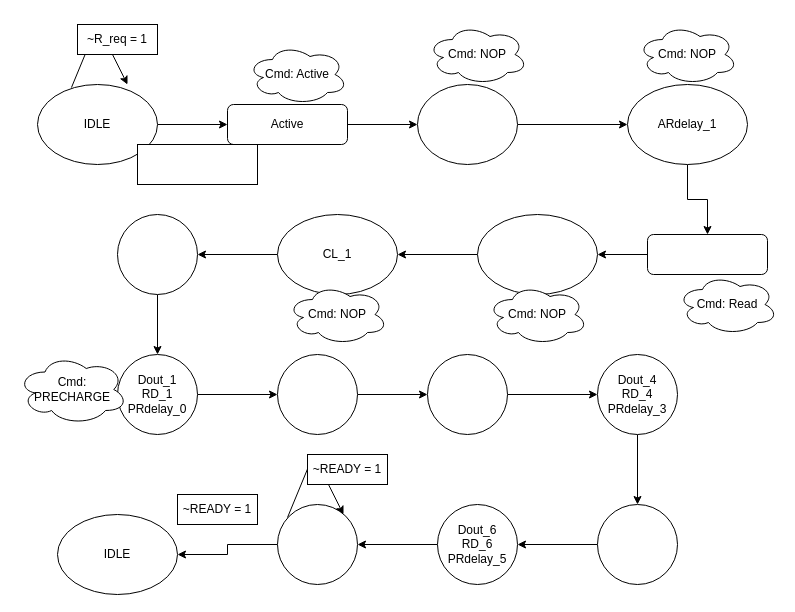
Some shapes in this 795 by 612 pixel diagram are drawn without their labels. The box of each missing label's shape, as (x1, y1, x2, y2) in pixels:
ARdelay_0: (416, 84, 518, 164)
CL_0: (476, 214, 598, 294)
Dout_0 RD_0: (116, 214, 198, 294)
Dout_2 RD_2 PRdelay_1: (276, 354, 358, 434)
Dout_3 RD_3 PRdelay_2: (426, 354, 508, 434)
Dout_5 RD_5 PRdelay_4: (596, 504, 678, 584)
Dout_7 RD_7 PRdelay_6: (276, 504, 358, 584)
Read: (646, 234, 768, 274)
~R_req = 0 && ~Ref_req = 1: (136, 144, 258, 184)
